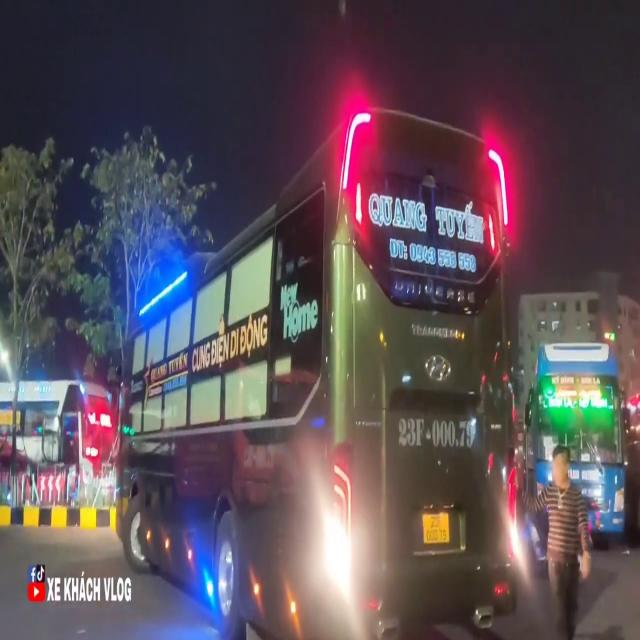bien_vang: (423, 508, 450, 543)
